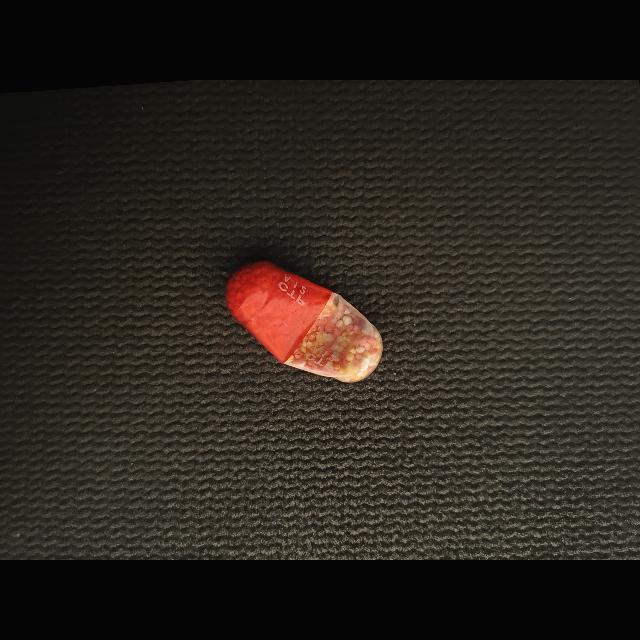Defective Capsule: (225, 262, 383, 383)
